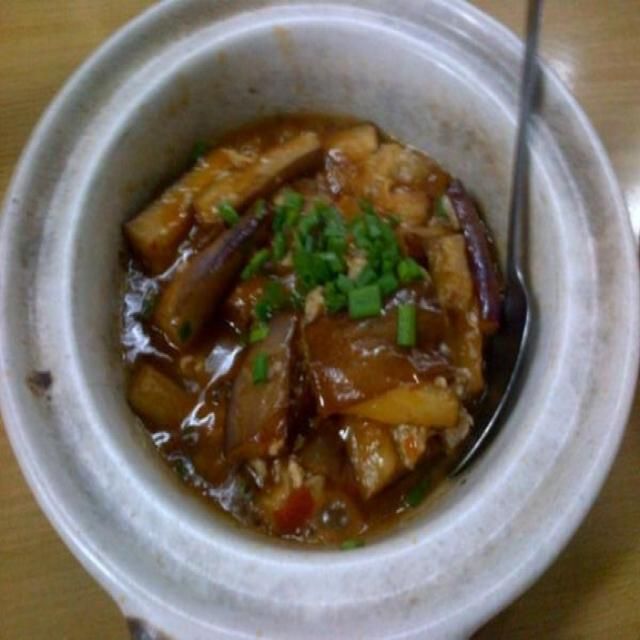汤锅炖物: (38, 31, 579, 584)
